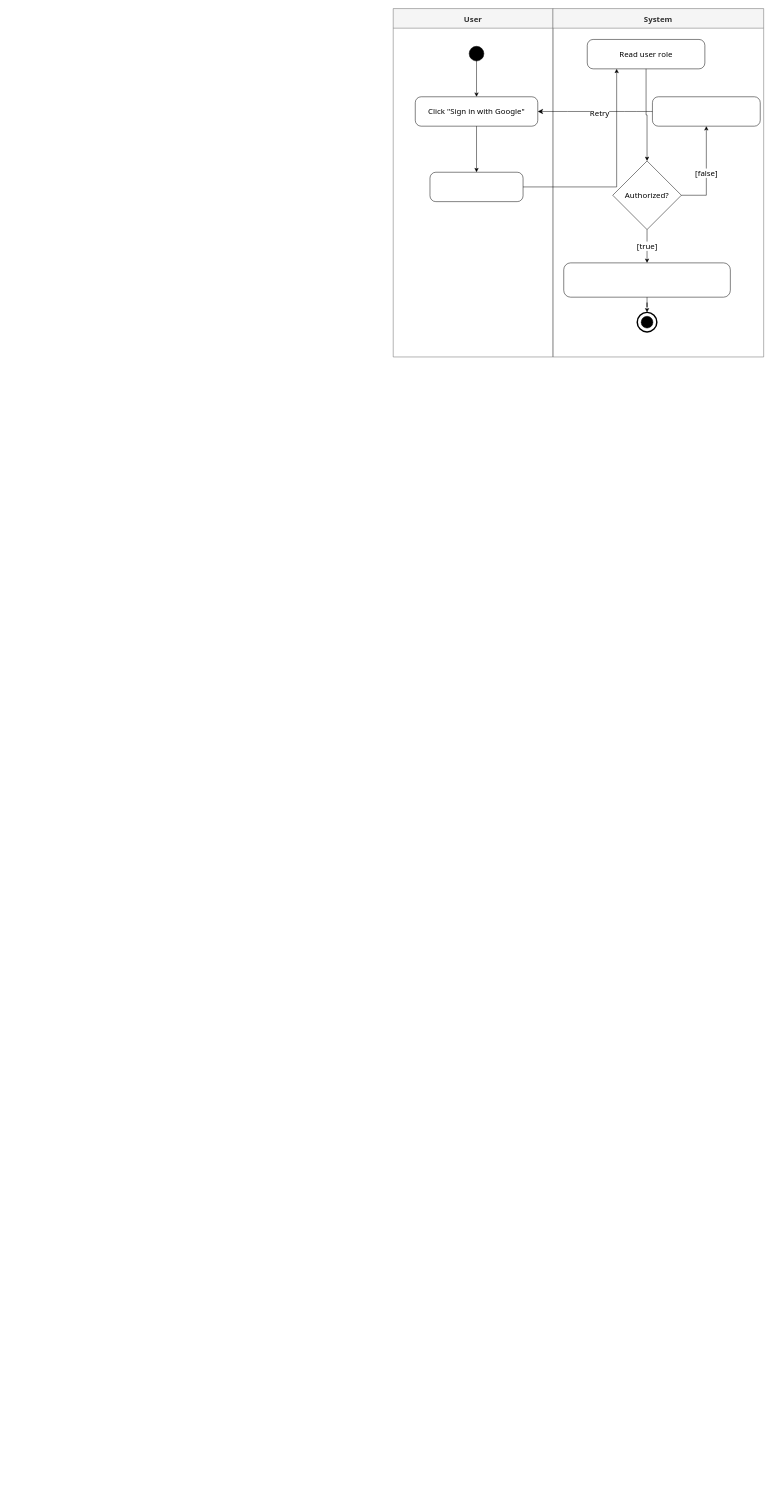
Some shapes in this 773 by 1487 pixel diagram are drawn without their labels. Here are the shapes that lost their labels. From the top down, the centre of each, then its label:
At point 706,111: "Show error: unauthorized account".
At point 476,187: "Authorize with Google".
At point 646,279: "Redirect to role-based dashboard".
